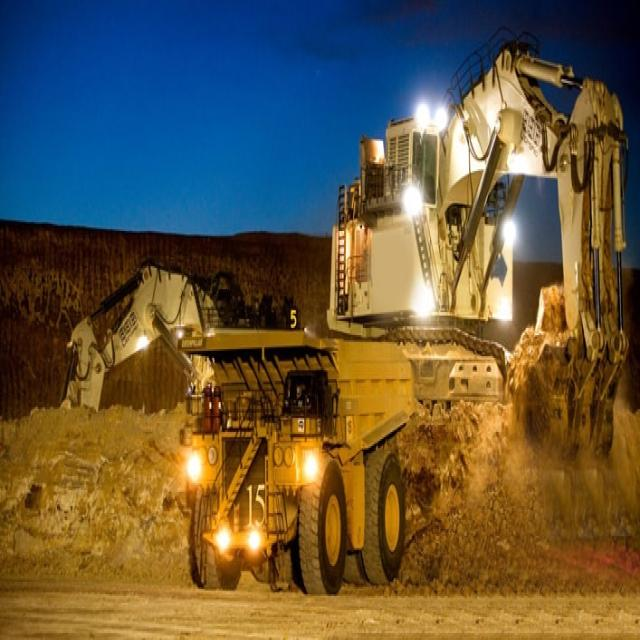dump_truck: (160, 303, 429, 596)
excavator: (317, 32, 630, 467), (40, 213, 224, 444)
